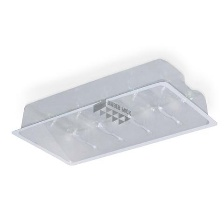plastic_box: (5, 52, 223, 172)
